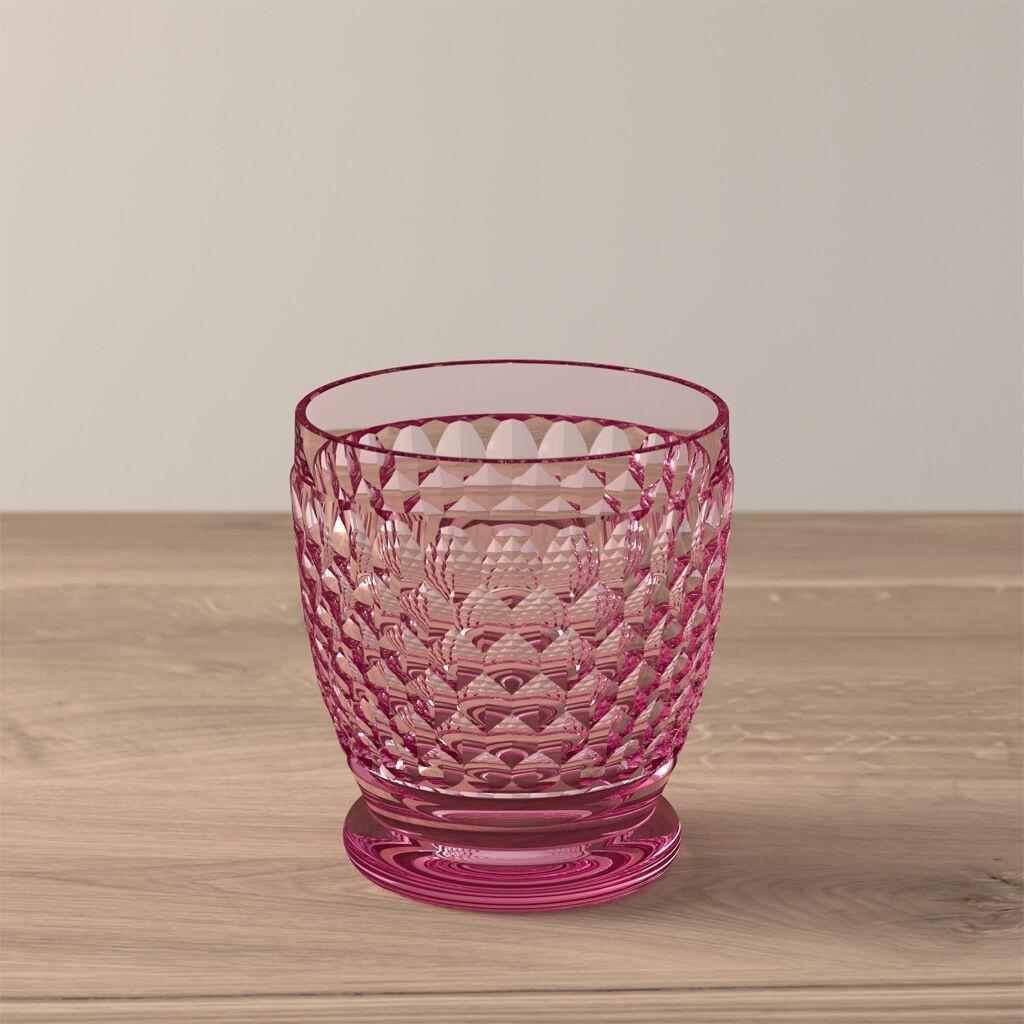glass-normal: (286, 352, 736, 915)
